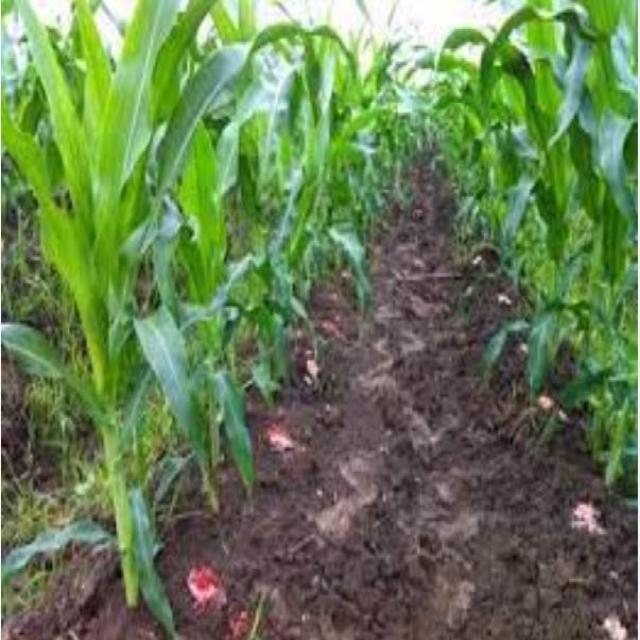row: (120, 150, 640, 640)
